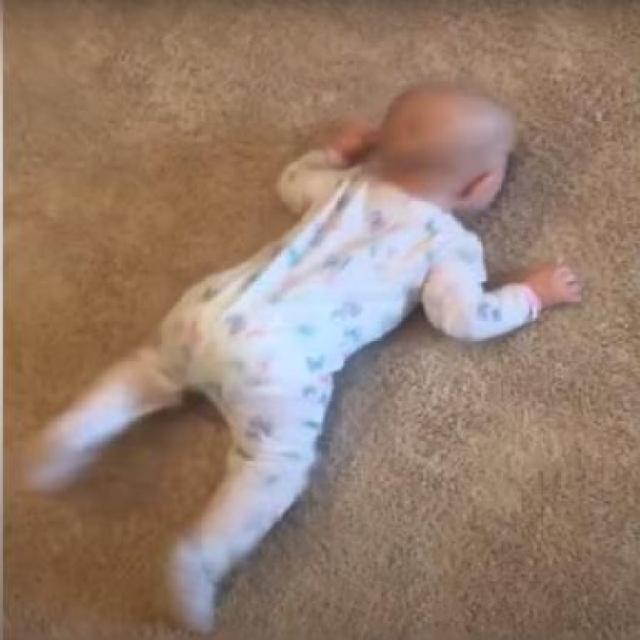baby: (28, 81, 580, 624)
